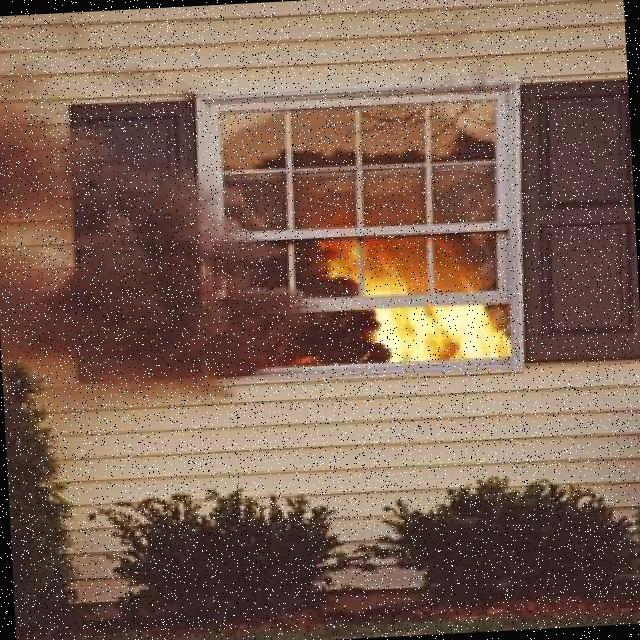Fire: (337, 209, 507, 379)
Smoke: (0, 239, 192, 415), (186, 229, 342, 403), (0, 143, 214, 250), (0, 43, 102, 155)
